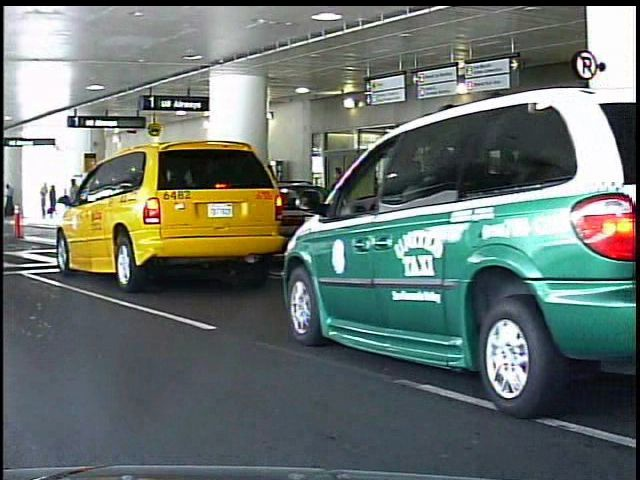person: (327, 165, 352, 251), (64, 176, 85, 231), (52, 182, 64, 221), (44, 181, 55, 221), (6, 183, 15, 212)
